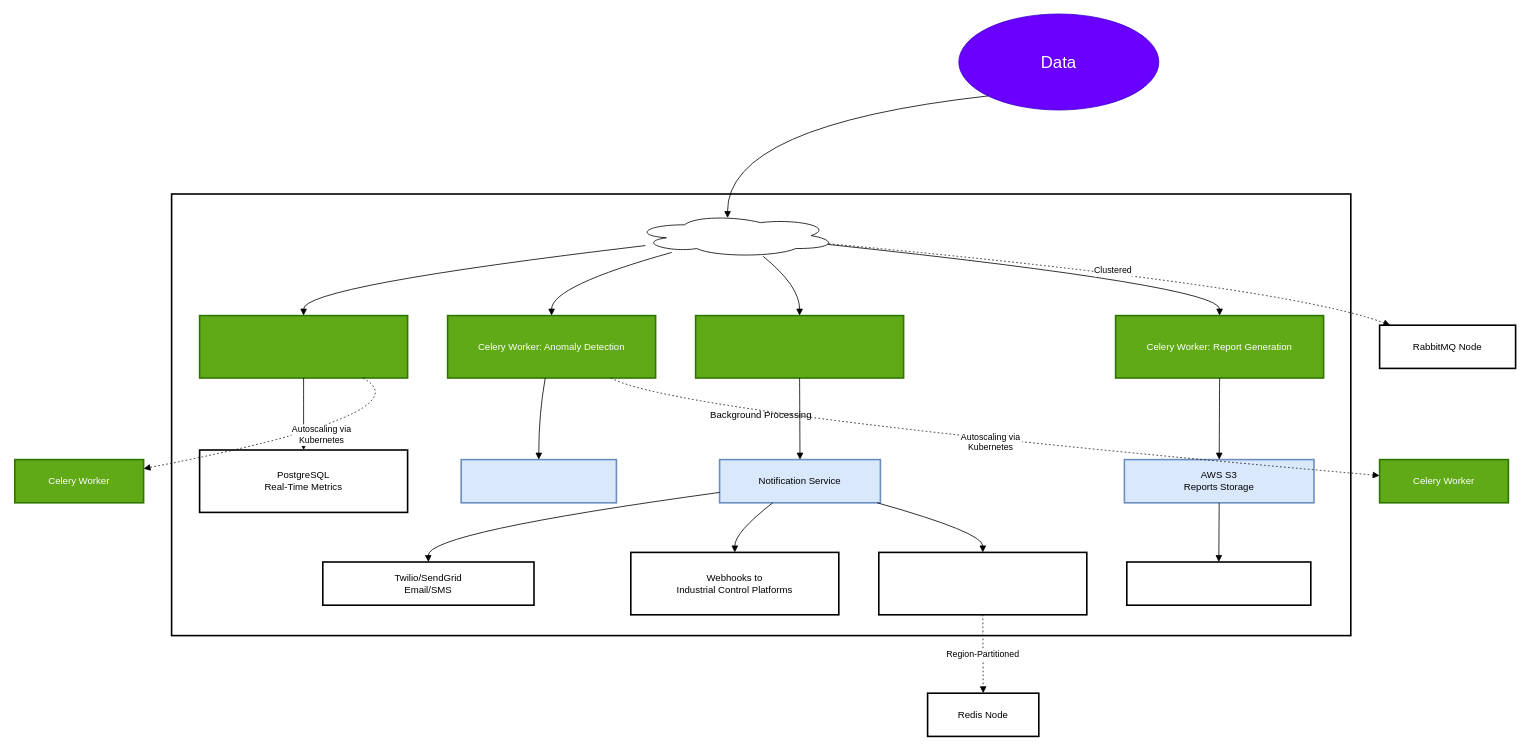
Some shapes in this 1530 by 751 pixel diagram are drawn without their labels. Each missing label, with the centre of its shape:
"AI Model Inference" belongs at point 538,480.
"Celery Worker: Alert Generation" belongs at point 799,346.
"Celery Worker: Data Aggregation" belongs at point 303,346.
"External Integration API" belongs at point 1218,583.
"RabbitMQ Message Broker" belongs at point 734,235.
"Redis Cached Thresholds & Preferences" belongs at point 982,583.
